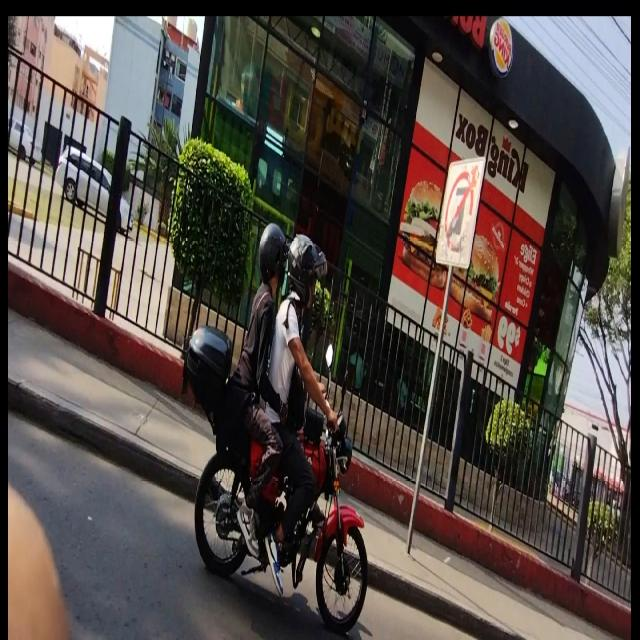adult: (264, 237, 336, 600), (235, 224, 287, 558)
